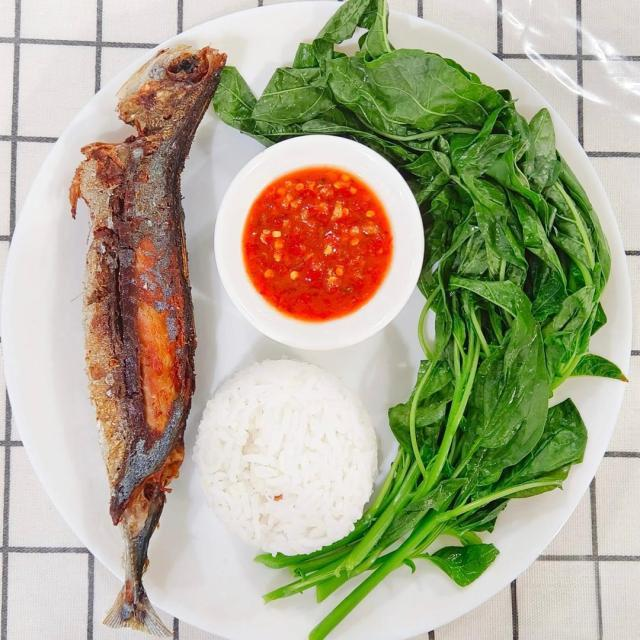Fish: (68, 43, 231, 639)
Plate: (3, 135, 118, 564)
Rice: (191, 363, 380, 557)
Vegetables: (211, 0, 627, 639)
